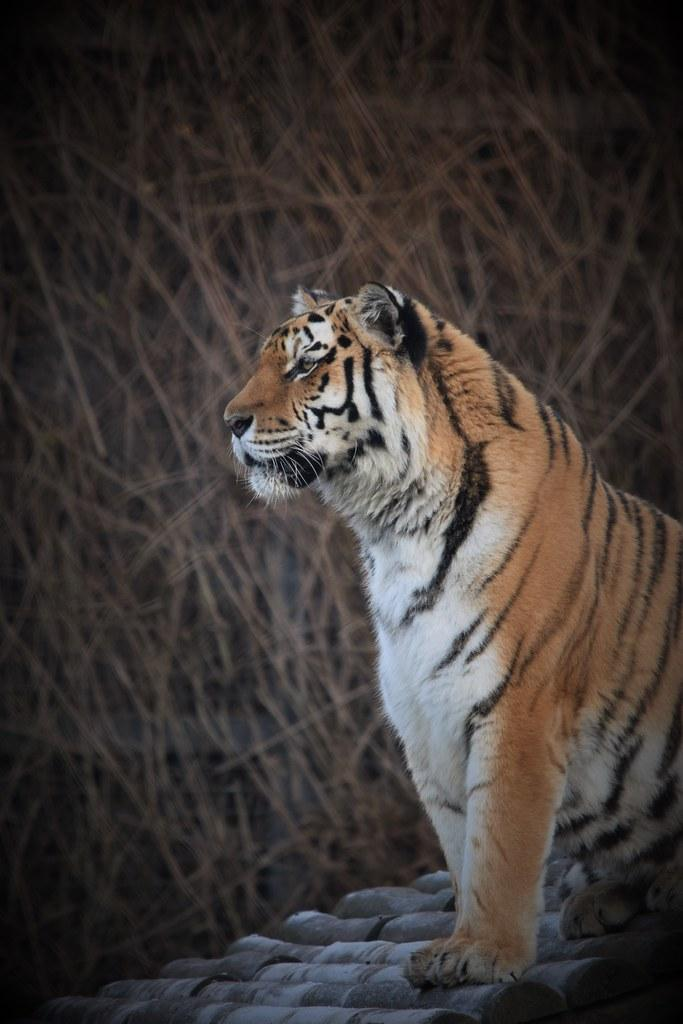tiger: (223, 280, 683, 990)
